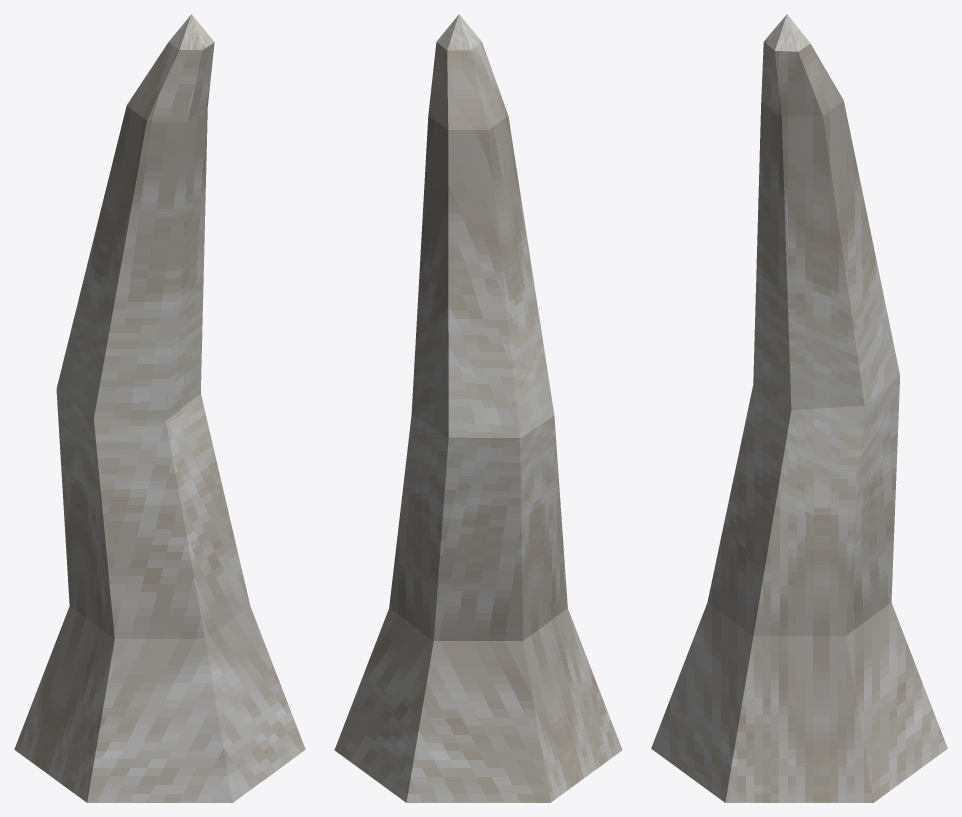
Rendered from Mushroom_Stem_A1.fbx.
3 views of the same model, side by side, from view 1: azimuth 30°, elevation 25°; view 2: azimuth 150°, elevation 25°; view 3: azimuth 270°, elevation 25° (orthographic). The views are drawn at different scales.
Parts seen in each view (by area): view 1: Mushroom_Stem_A; view 2: Mushroom_Stem_A; view 3: Mushroom_Stem_A.
Boxes of the visible parts, <box> form: Mushroom_Stem_A: <box>14,14,305,802</box>; Mushroom_Stem_A: <box>334,14,622,802</box>; Mushroom_Stem_A: <box>651,14,947,802</box>.
Size of the model in its own units: 0.3686 by 1.18 by 0.4256.
